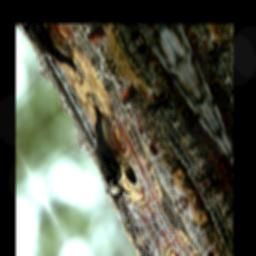Woodpecker: (66, 92, 148, 212)
